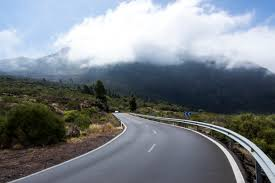strada: (37, 115, 244, 183)
